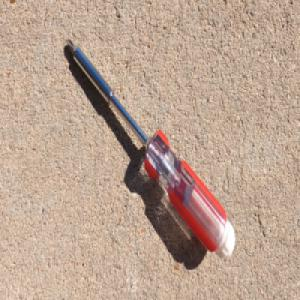Screwdriver: (64, 35, 236, 260)
